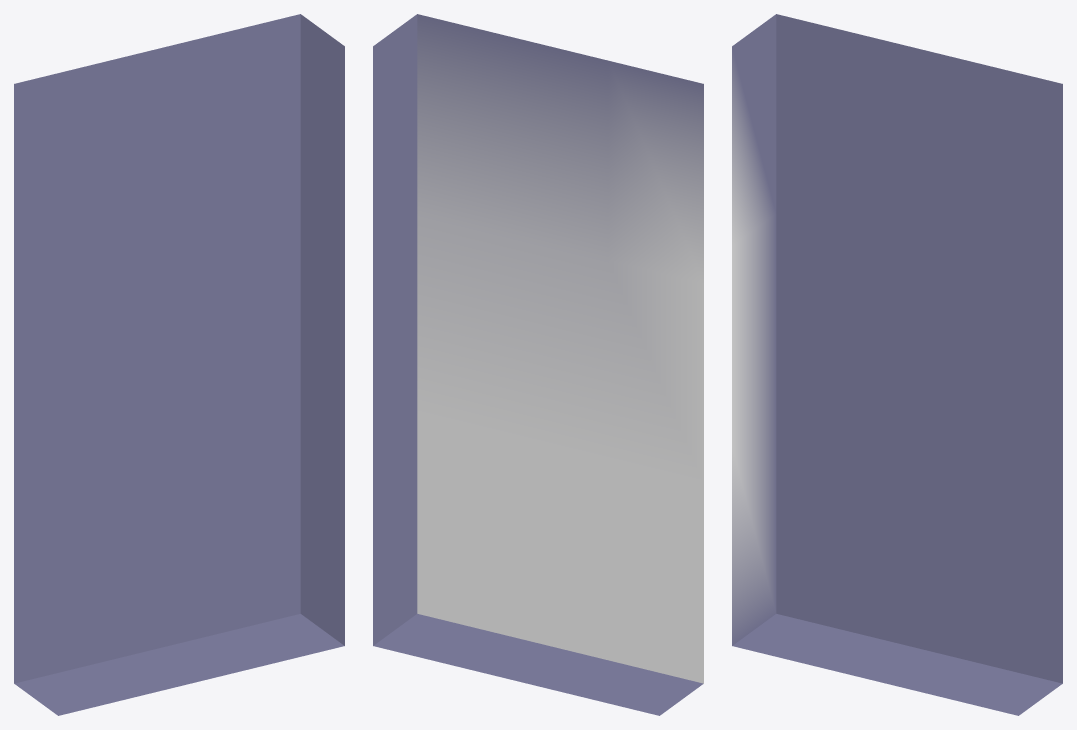
3 views of the same model, side by side, from view 1: azimuth 30°, elevation 25°; view 2: azimuth 150°, elevation 25°; view 3: azimuth 330°, elevation 25° (orthographic).
Parts seen in each view (by area): view 1: object0; view 2: object0; view 3: object0.
Part boxes in pixels (box(x1,y1,x2,y2)): object0: box(14, 14, 344, 715); object0: box(373, 14, 703, 715); object0: box(732, 14, 1062, 715).
Bounding box in the file's own units: 1536 × 3072 × 410.
